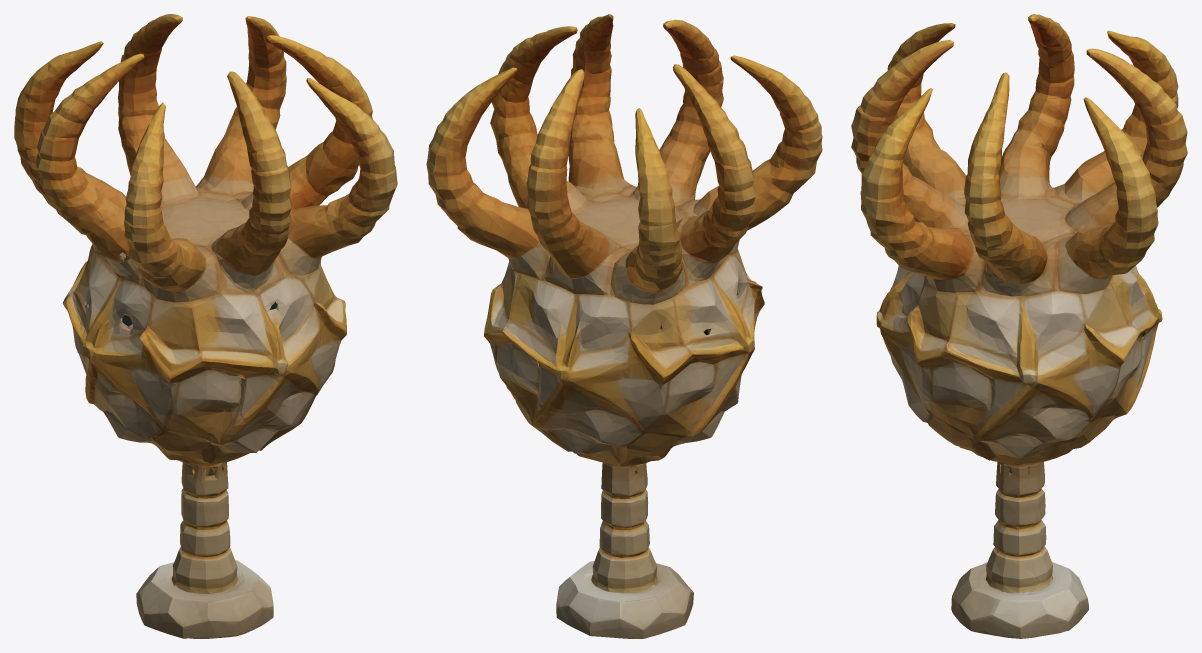
3 renders of one model, left to right at view 1: azimuth 30°, elevation 25°; view 2: azimuth 150°, elevation 25°; view 3: azimuth 270°, elevation 25°, orthographic.
Visible parts, largest first — view 1: world; view 2: world; view 3: world.
Boxes of the visible parts, box(x1,y1,x2,y2) form: world: box(14, 14, 397, 638); world: box(426, 14, 822, 638); world: box(851, 14, 1187, 638).
Bounding box in the file's own units: 0.0859 × 0.1553 × 0.0837.
Materials: 1 (1 with a texture image).
